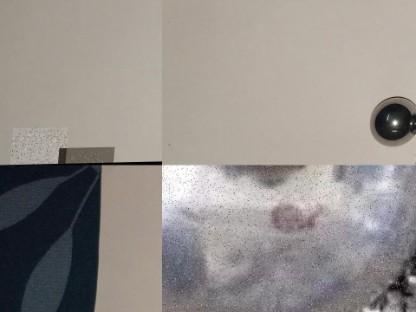ironball: (162, 165, 415, 311), (365, 92, 414, 148), (16, 128, 74, 165), (64, 148, 120, 164)
